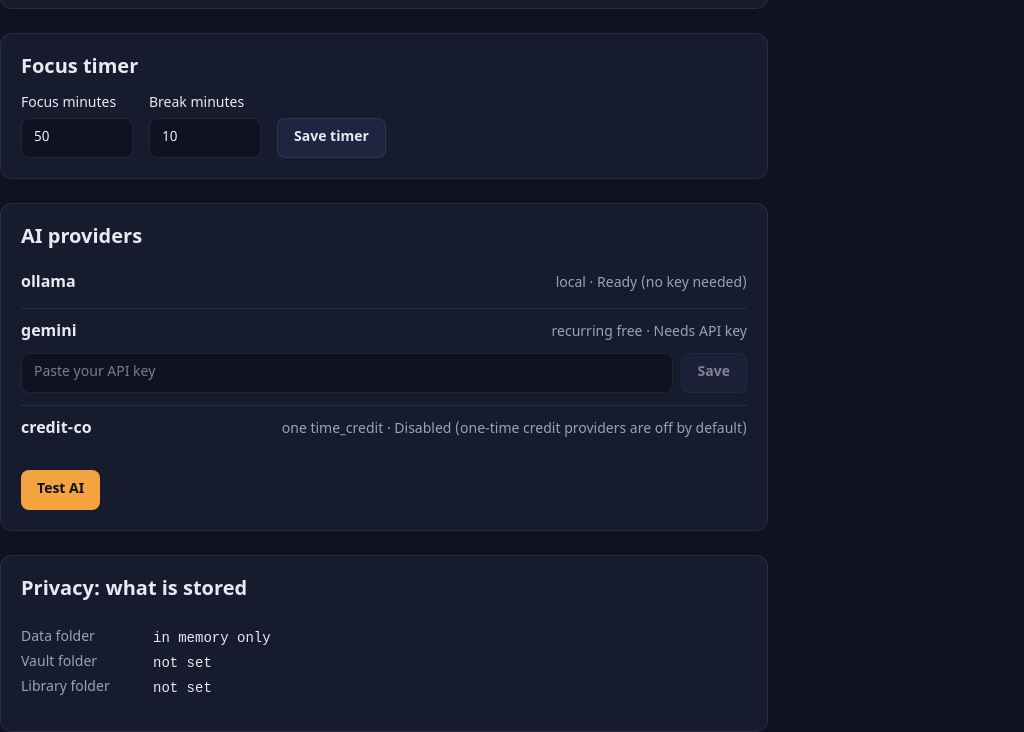
Test case: Settings screen › shows the reason when the OS keystore is unavailable
The image size is (1024, 732).
(page scrolled)
Type "k" into the password field named "gemini api key".
click(347, 373); type("k")  # box [21,353,673,393]
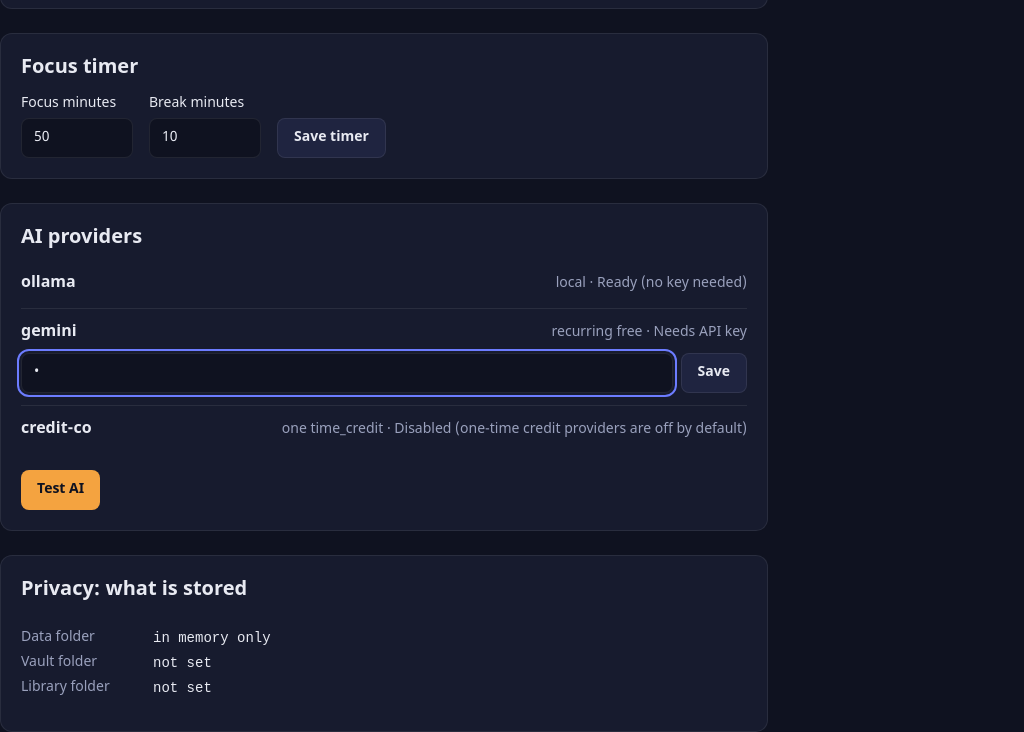
Click the button with aria-label "save gemini".
click(714, 373)  # box [681,353,747,393]
(page scrolled)
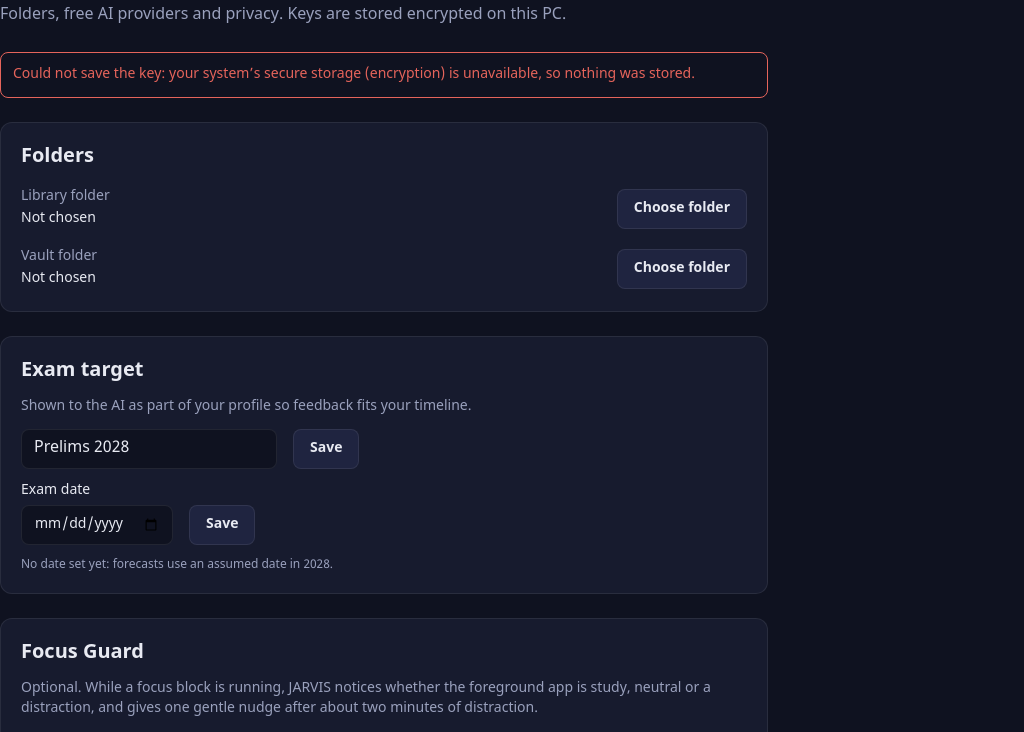
Expected: the message shows "encryption", [13,65,695,84]
